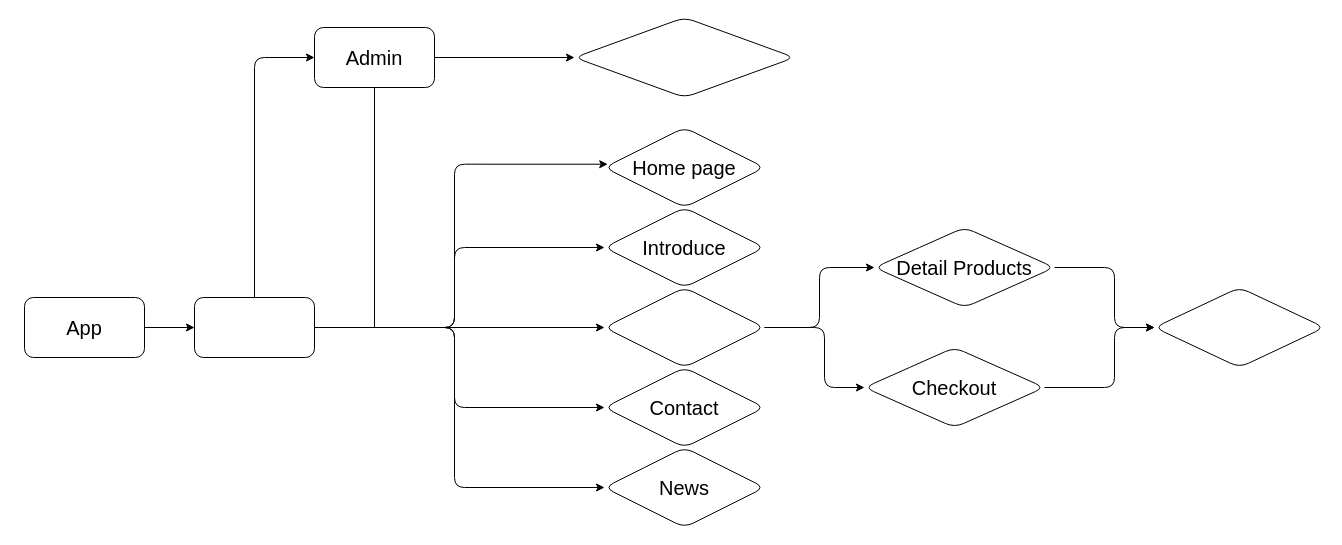
Image size: 1342x545. Some labels were removed from this diagram. The shapes that lost their labels are listed below. From the top down, each one's centre as x and y in pixels, then its label:
the point at 684,57: Manager page
the point at 254,327: Default / Normal User
the point at 684,327: Product
the point at 1239,327: Payment
